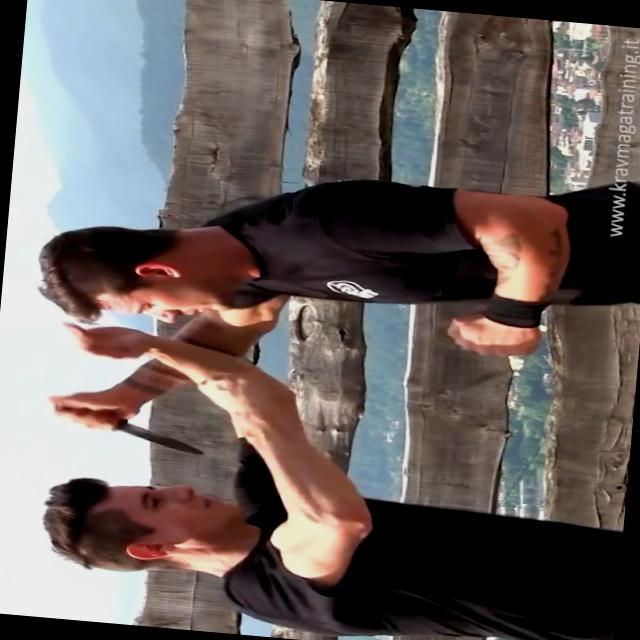knife: (45, 388, 216, 462)
